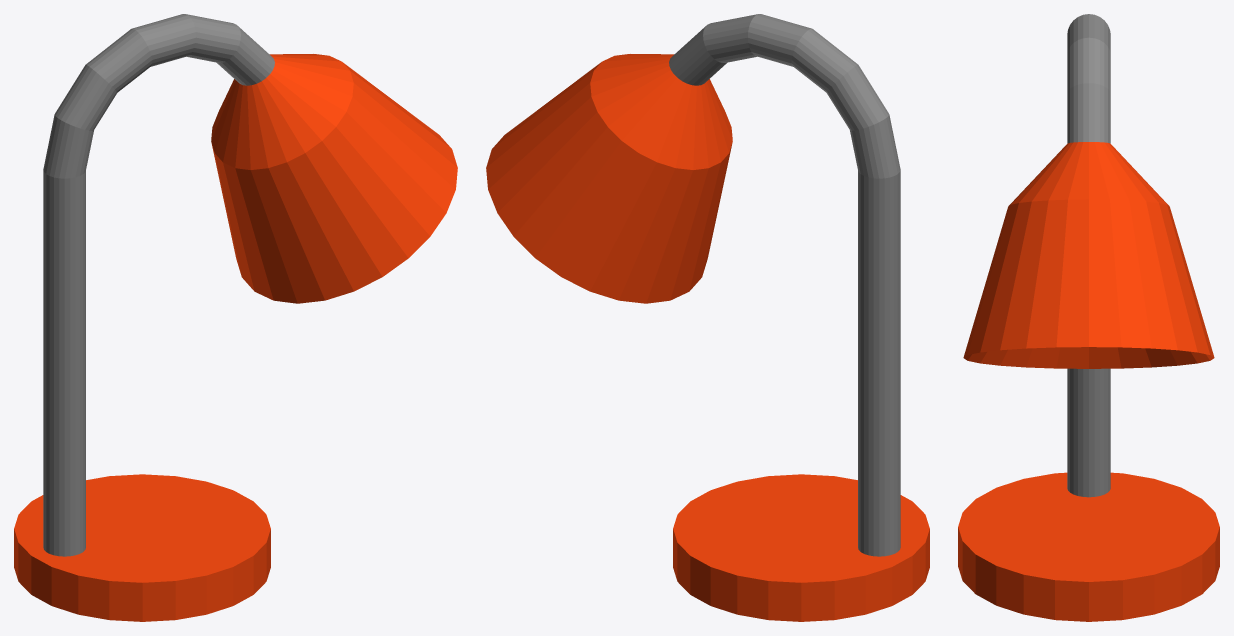
Rendered from lamp3.glb.
3 views of the same model, side by side, from view 1: azimuth 30°, elevation 25°; view 2: azimuth 150°, elevation 25°; view 3: azimuth 270°, elevation 25° (orthographic).
Visible parts, largest first — view 1: Cube; view 2: Cube; view 3: Cube.
Boxes of the visible parts, x1,y1,x2,y2 form: Cube: (14, 14, 457, 621); Cube: (486, 14, 929, 621); Cube: (958, 14, 1219, 621).
Bounding box in the file's own units: 0.6332 × 0.8023 × 0.345.
Materials: 2 (2 with a texture image).
